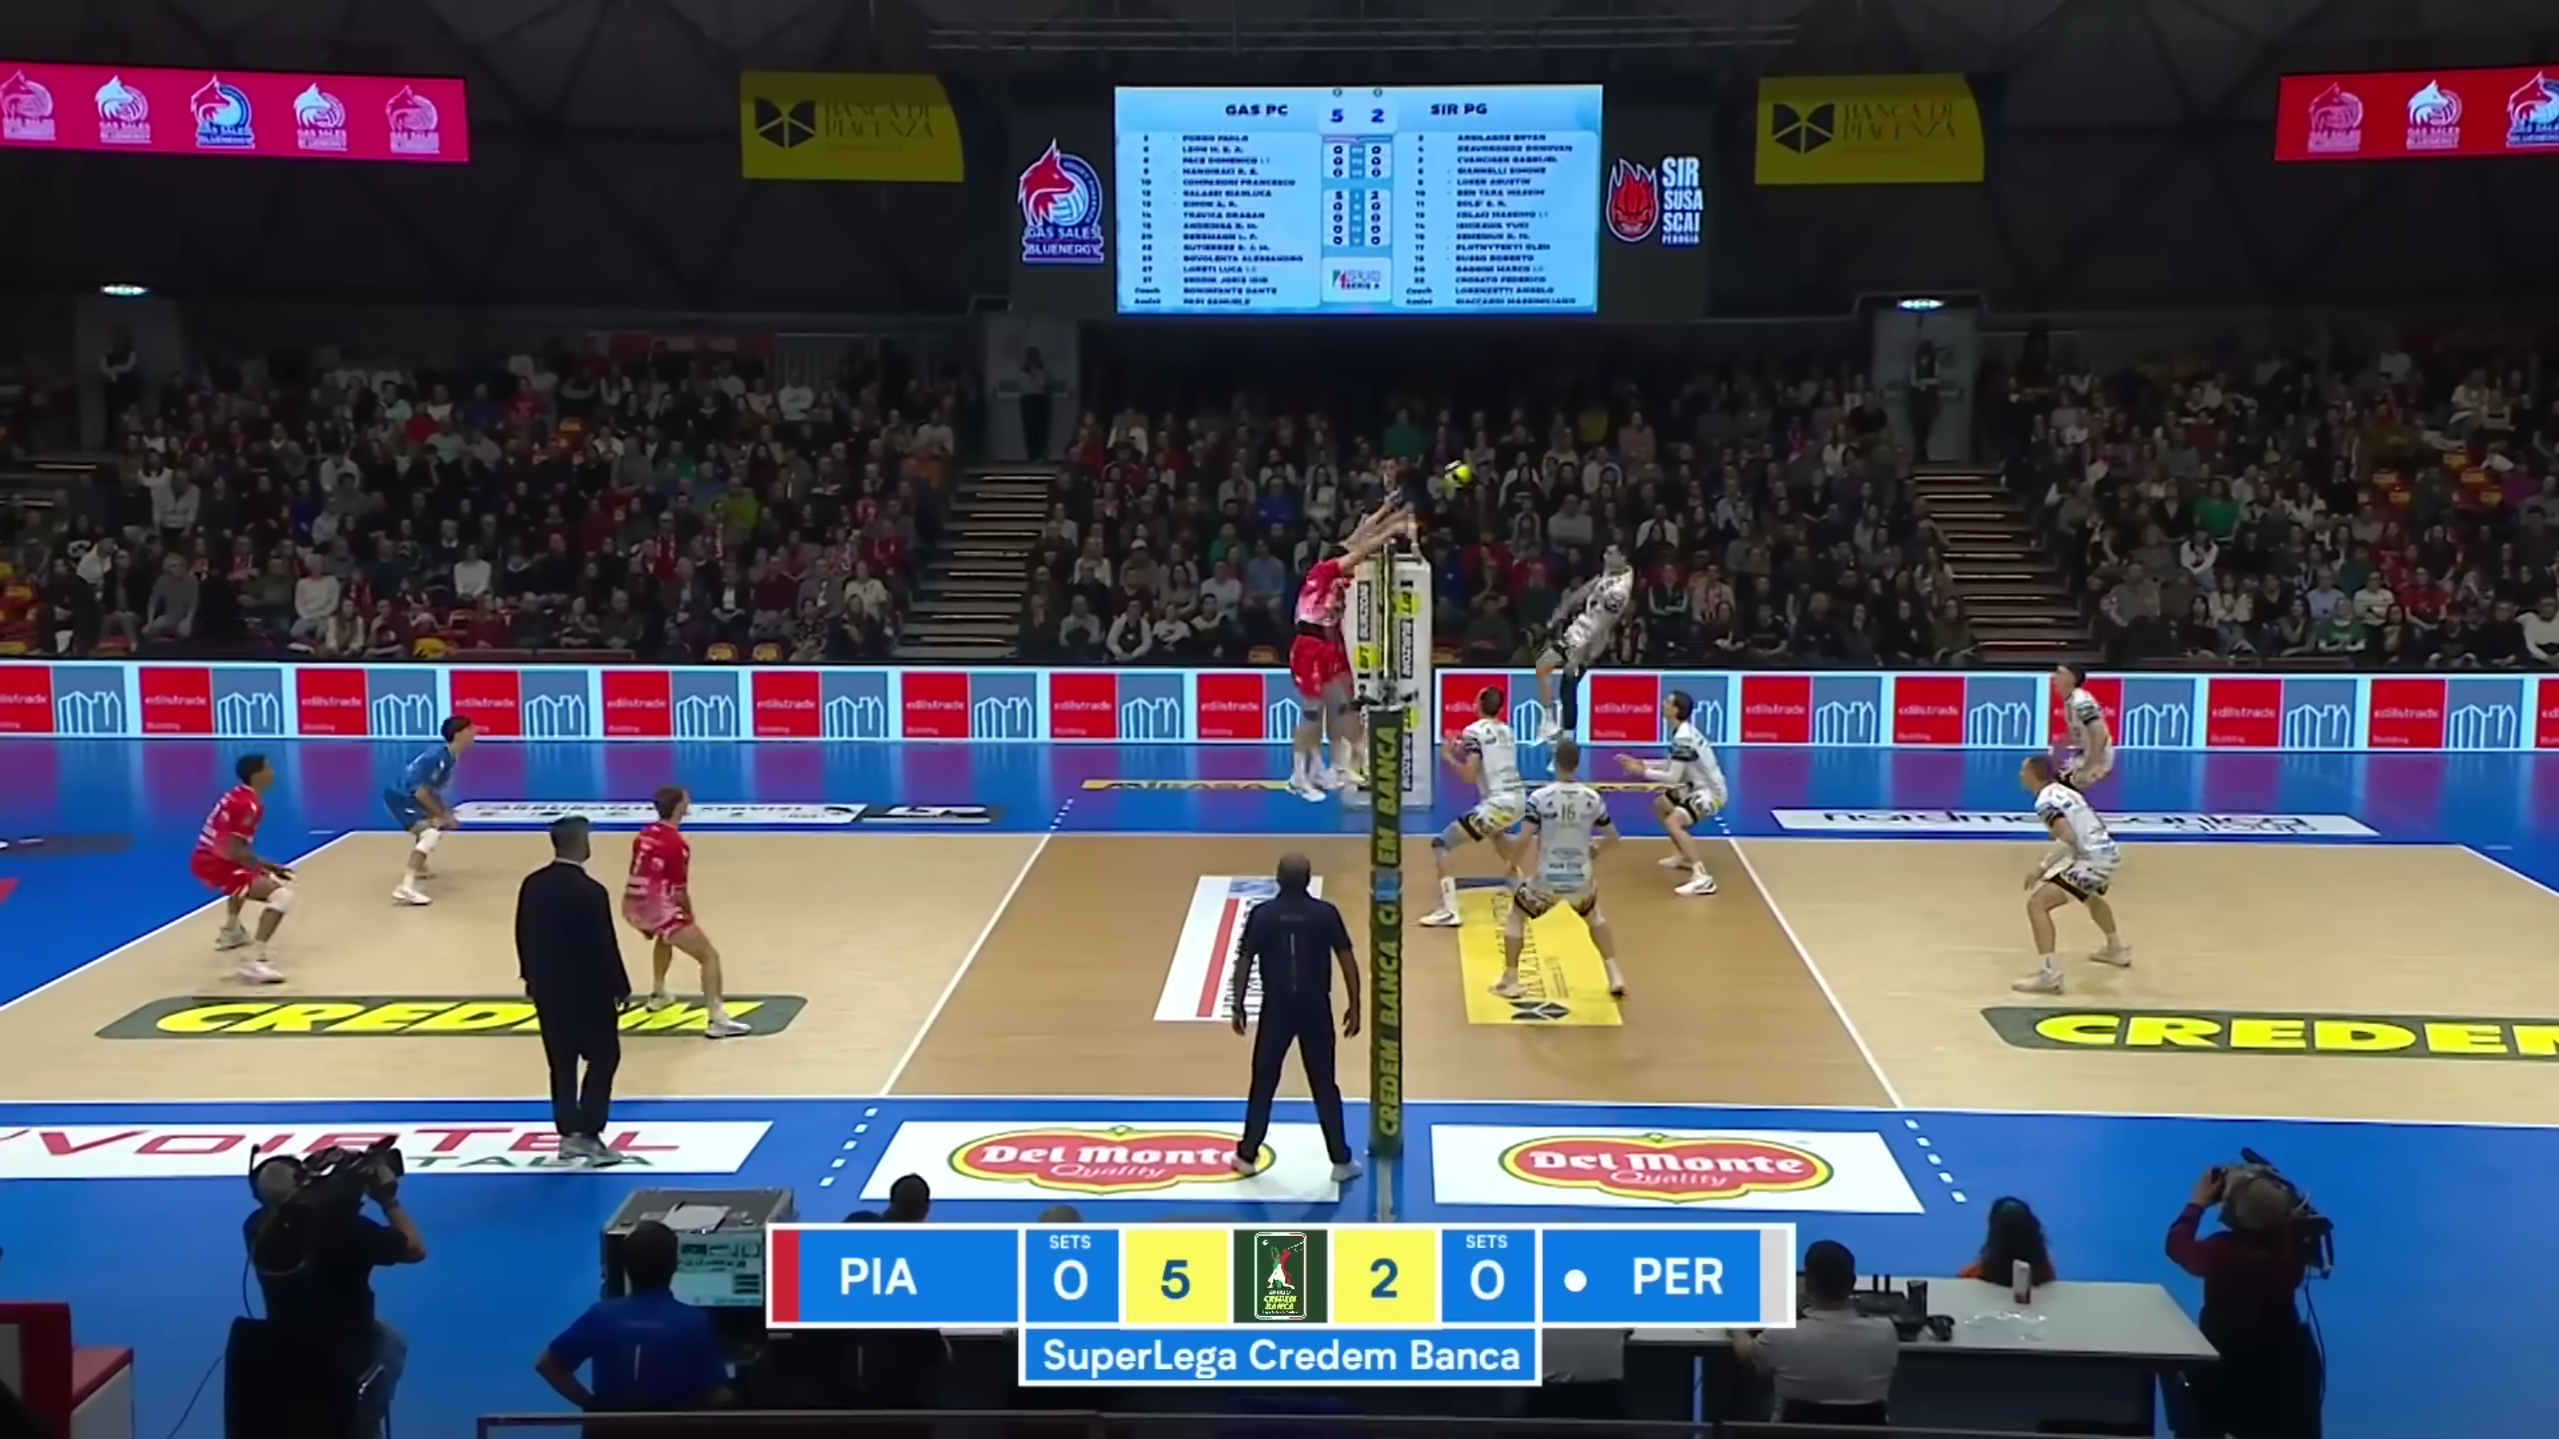Ball: (1443, 459, 1476, 490)
